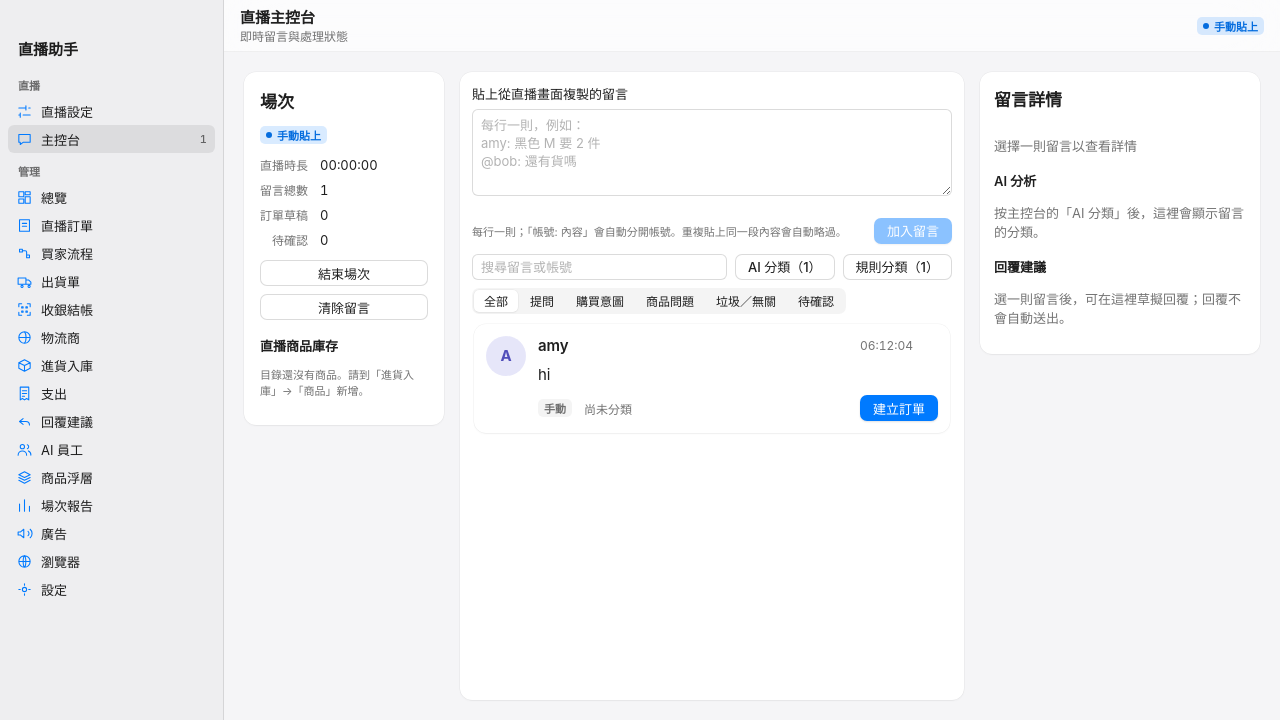
Live Assistant UI › asks for an AI service in Settings when none is chosen
The image size is (1280, 720).
What coordinates should you click on to do the following:
click the button "AI 分類（1）"
I would click on:
 (785, 267)
Its box is [735,254,835,280].
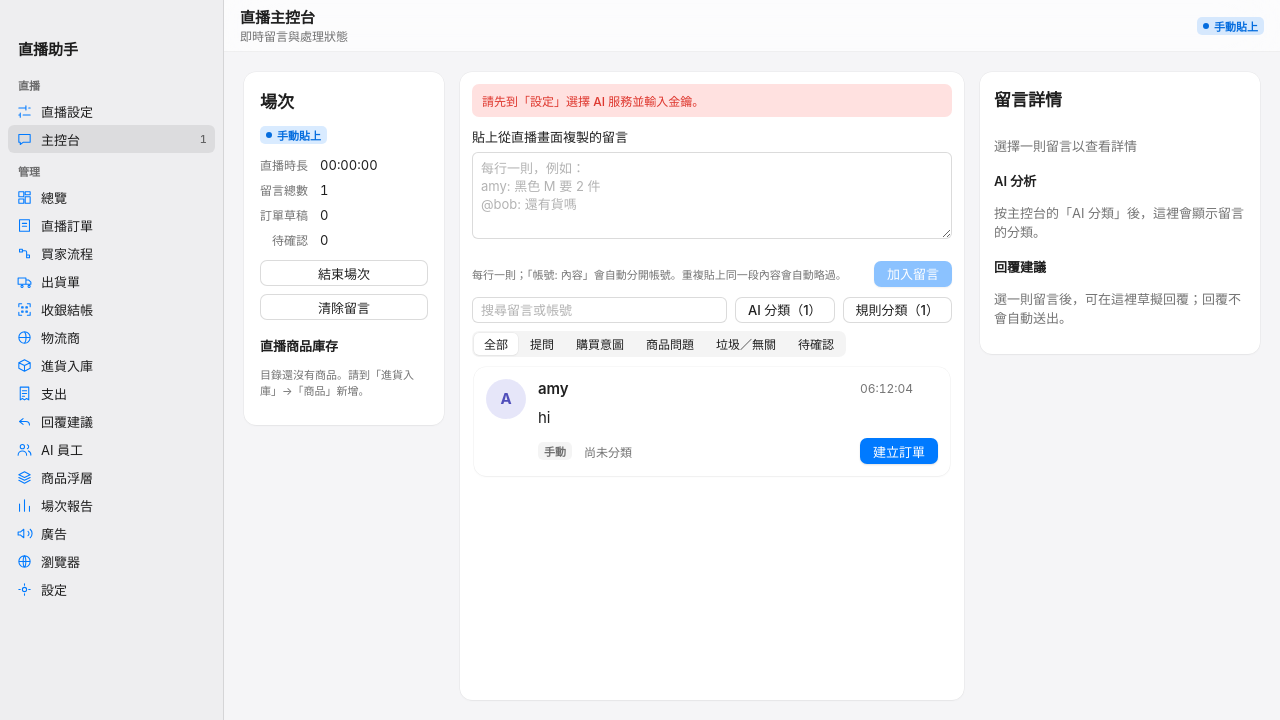
Expected: the message reads "請先到「設定」選擇 AI 服務並輸入金鑰。", [482,94,704,109]
